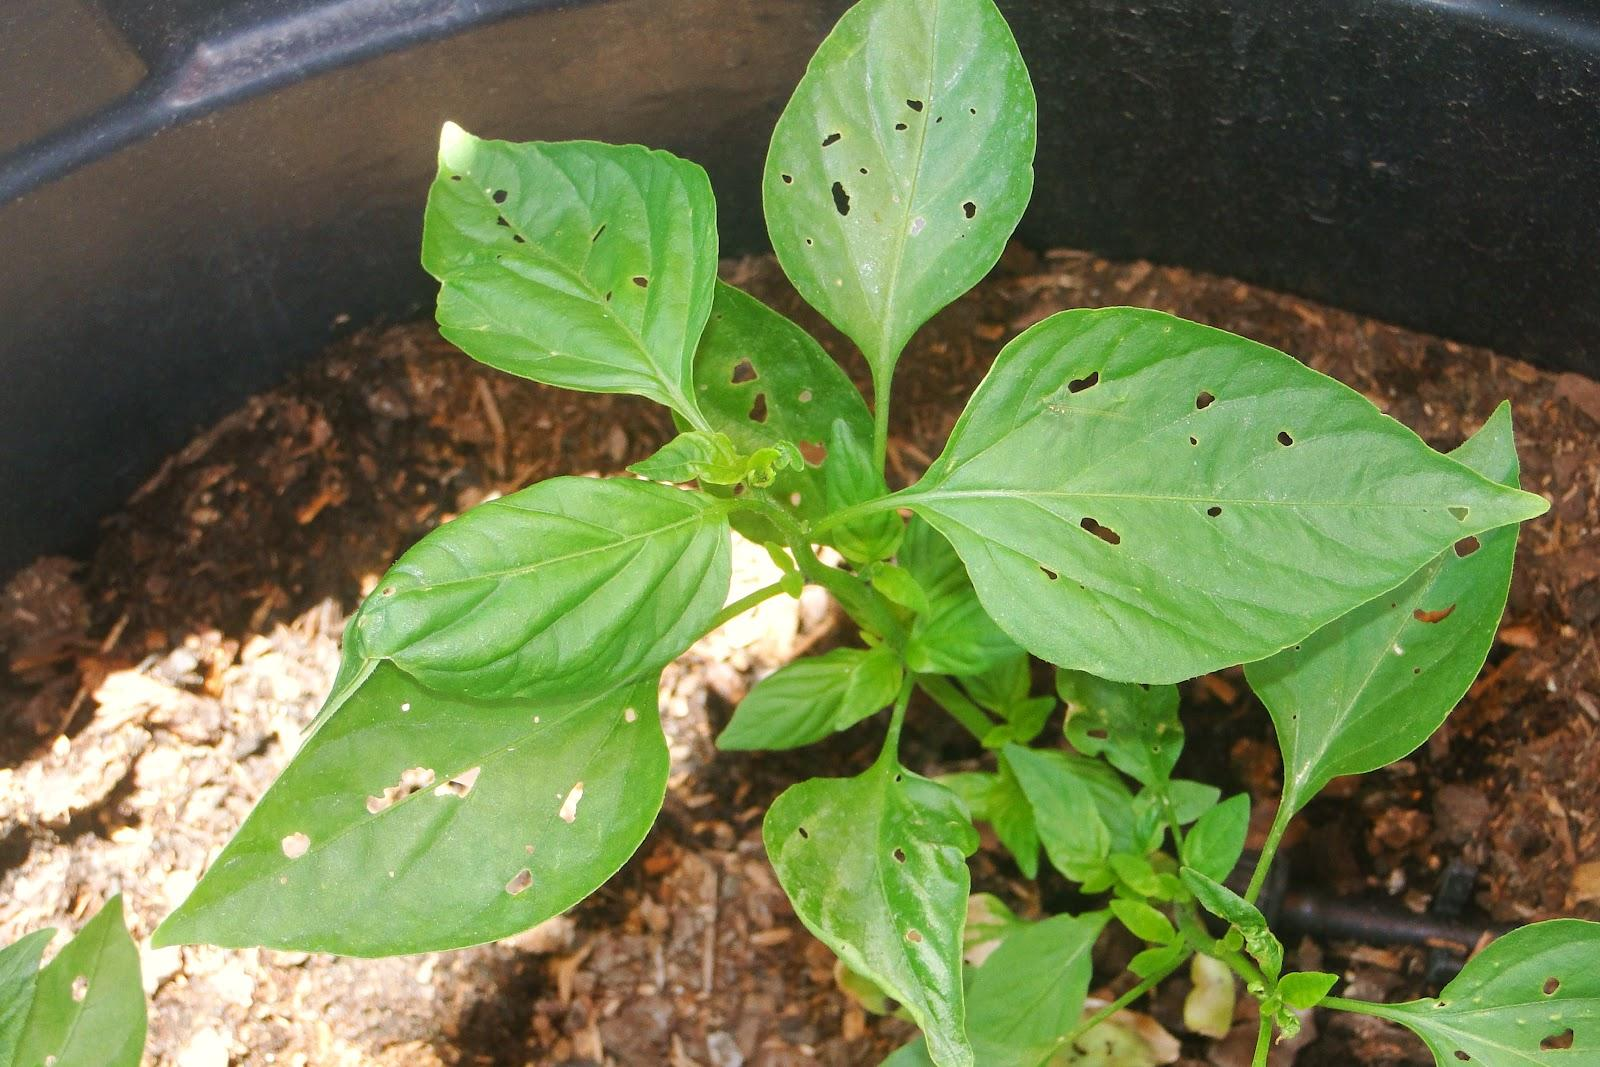Bell_pepper leaf spot: (939, 302, 1549, 682), (392, 108, 711, 416), (750, 5, 1023, 361), (345, 495, 736, 703), (748, 751, 985, 1067)
